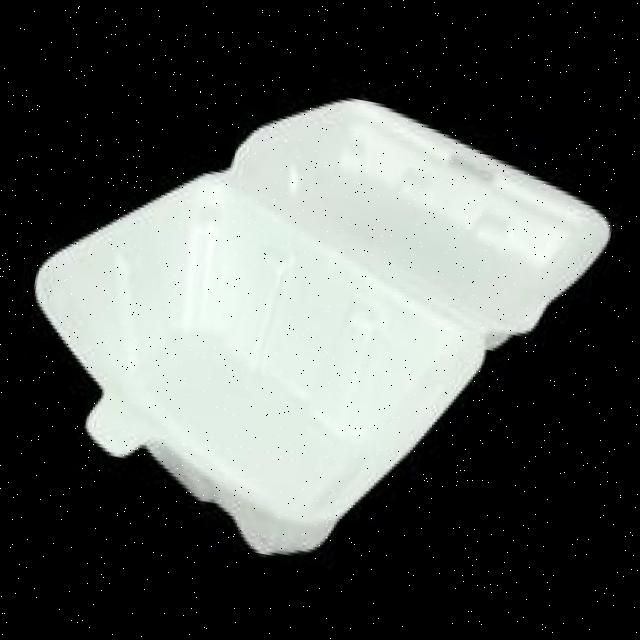styrofoam: (0, 43, 627, 607)
